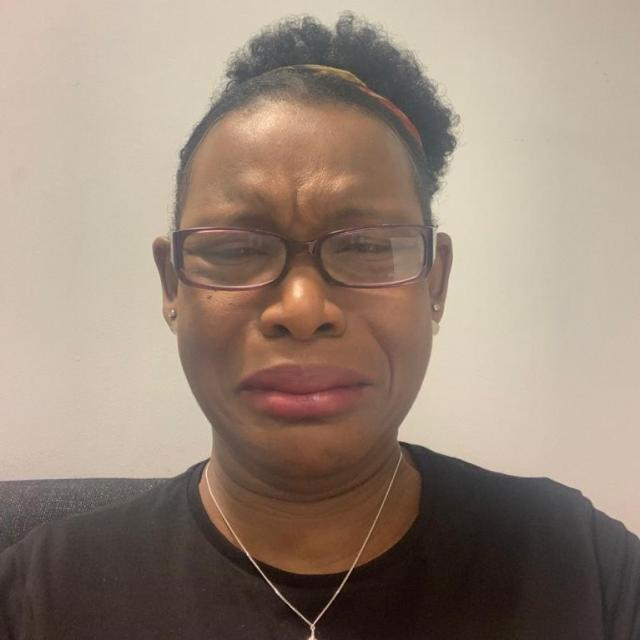sad: (152, 48, 455, 487)
